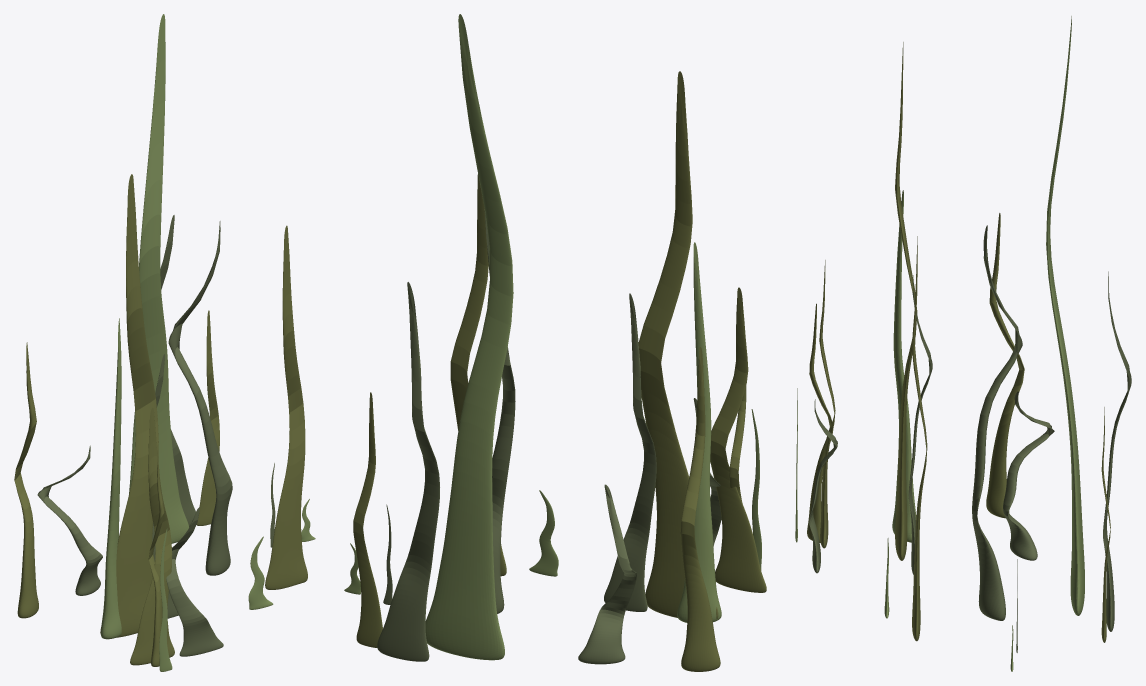
Rendered from Grass FBX.fbx.
3 views of the same model, side by side, from view 1: azimuth 30°, elevation 25°; view 2: azimuth 150°, elevation 25°; view 3: azimuth 270°, elevation 25° (orthographic). The views are drawn at different scales.
Parts seen in each view (by area): view 1: Sphere.003, Sphere.002, Sphere.001, Sphere.012, Sphere, Sphere.015, Sphere.016, Sphere.006, Sphere.013, Sphere.007, Sphere.008, Sphere.014 (+3 smaller); view 2: Sphere.002, Sphere.003, Sphere.008, Sphere, Sphere.016, Sphere.009, Sphere.015, Sphere.013, Sphere.001, Sphere.012, Sphere.007, Sphere.004 (+2 smaller); view 3: Sphere.002, Sphere.012, Sphere.003, Sphere.016, Sphere.015, Sphere.013, Sphere.001, Sphere.008, Sphere.014, Sphere, Sphere.009, Sphere.006 (+1 smaller).
Part boxes in pixels (box(x1,y1,x2,y2)): Sphere.003: box(100, 174, 158, 637); Sphere.002: box(129, 14, 189, 543); Sphere.001: box(265, 225, 307, 589); Sphere.012: box(168, 221, 232, 575); Sphere: box(130, 408, 174, 665); Sphere.015: box(101, 318, 121, 639); Sphere.016: box(14, 342, 38, 618); Sphere.006: box(166, 507, 223, 656); Sphere.013: box(37, 445, 102, 595); Sphere.007: box(196, 310, 219, 525); Sphere.008: box(160, 215, 195, 526); Sphere.014: box(148, 450, 164, 666); Sphere.002: box(425, 14, 513, 660); Sphere.003: box(638, 71, 718, 618); Sphere.008: box(377, 282, 439, 661); Sphere: box(710, 287, 766, 592); Sphere.016: box(680, 347, 720, 671); Sphere.009: box(604, 293, 656, 611); Sphere.015: box(677, 242, 721, 622); Sphere.013: box(578, 484, 636, 664); Sphere.001: box(450, 174, 506, 576); Sphere.012: box(484, 210, 515, 613); Sphere.007: box(353, 392, 382, 647); Sphere.004: box(529, 490, 558, 576); Sphere.002: box(1046, 16, 1084, 615); Sphere.012: box(972, 225, 1022, 620); Sphere.003: box(895, 42, 917, 560); Sphere.016: box(986, 213, 1024, 518); Sphere.015: box(892, 190, 916, 542); Sphere.013: box(1003, 391, 1054, 560); Sphere.001: box(912, 236, 927, 641); Sphere.008: box(1103, 271, 1131, 631); Sphere.014: box(807, 303, 833, 542); Sphere: box(819, 260, 835, 548); Sphere.009: box(908, 275, 932, 574); Sphere.006: box(809, 399, 837, 573).
Bounding box in the file's own units: 120 × 201 × 103.
